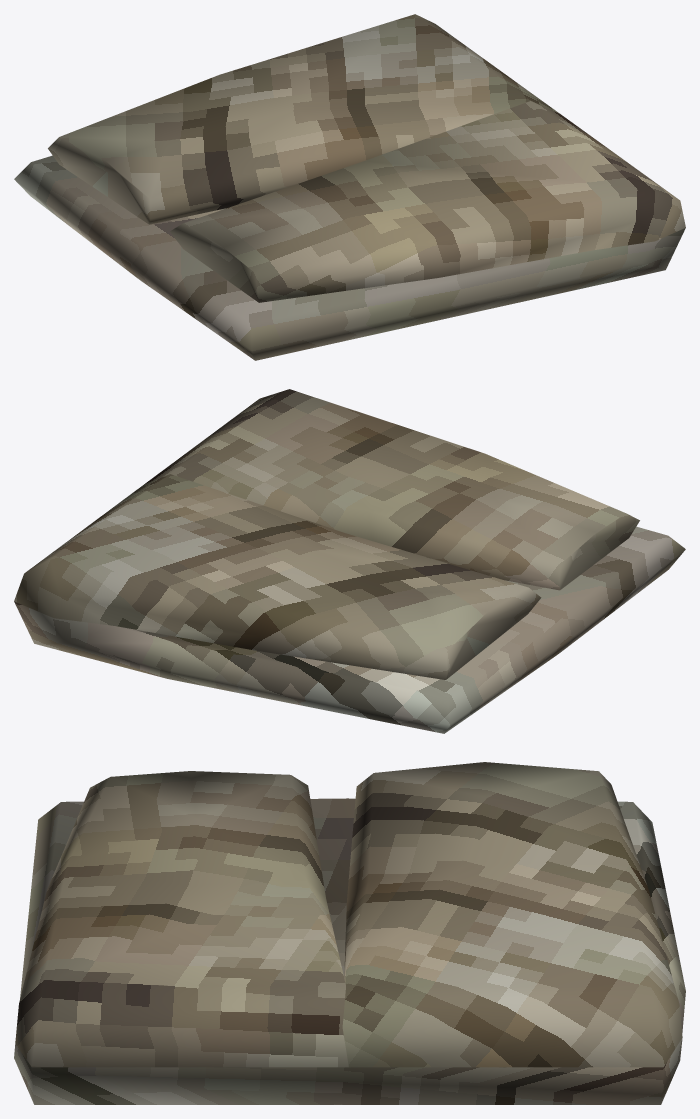
The model's file is ArmorTrollLeatherLegs.fbx.
3 views of the same model, one above another, from view 1: azimuth 30°, elevation 25°; view 2: azimuth 150°, elevation 25°; view 3: azimuth 270°, elevation 25° (orthographic). The views are drawn at different scales.
Visible parts, largest first — view 1: log; view 2: log; view 3: log.
Part boxes in pixels (x1,y1,x2,y2): log: (14,14,685,360); log: (14,389,685,733); log: (14,762,685,1104).
Bounding box in the file's own units: 60.72 × 14.42 × 62.72.
1 material, 1 textured.
